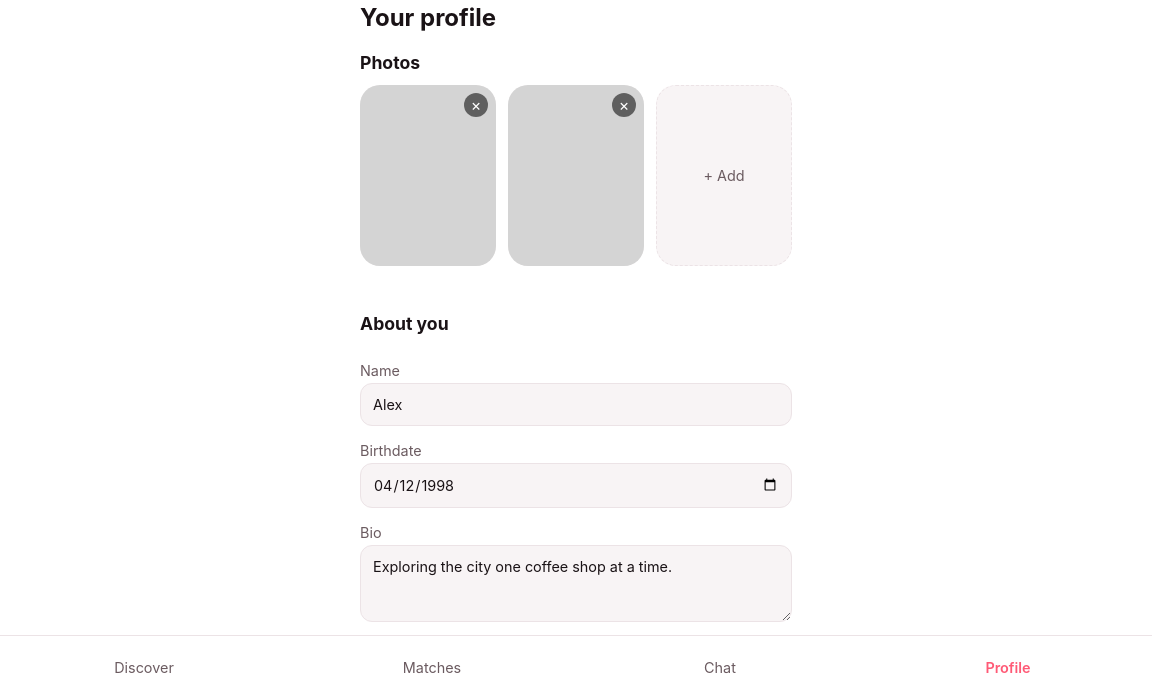
Test case: ProfilePage › loads the current profile and lets you save it
Replace the text in the field showing "Alex" with "Alexa": (576, 404) [360,383,792,426]
(page scrolled)
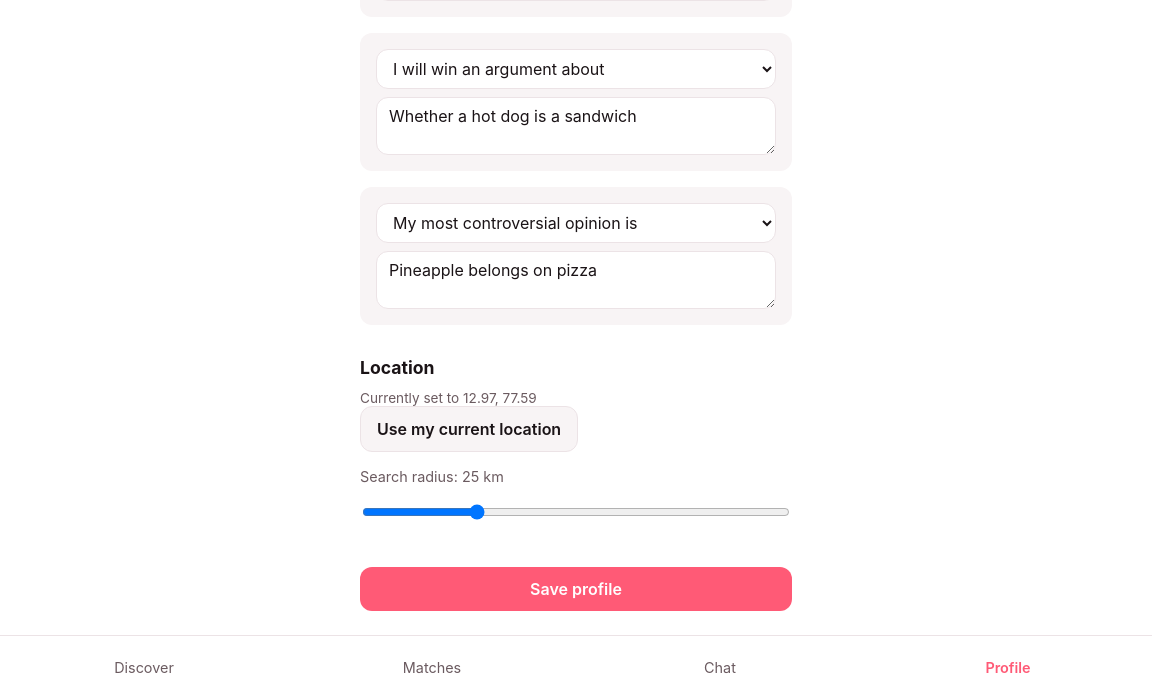
Click the button "Save profile": (576, 589) [360,567,792,611]
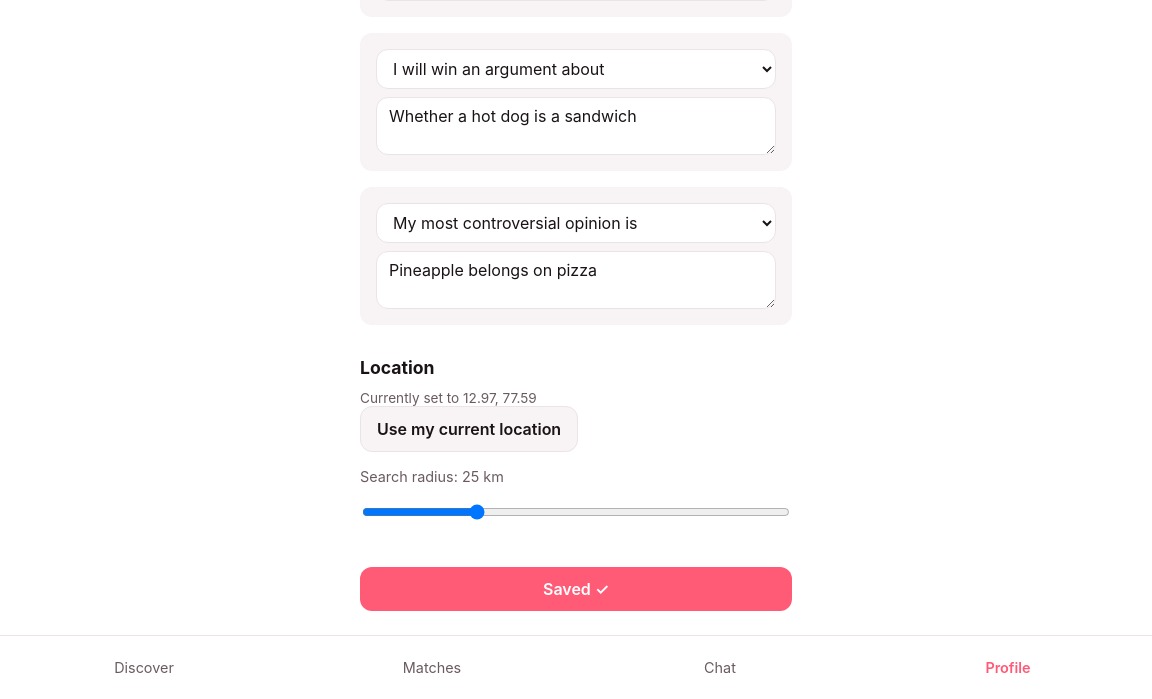
Result: the button "Saved ✓" is shown at [360,567,792,611]
